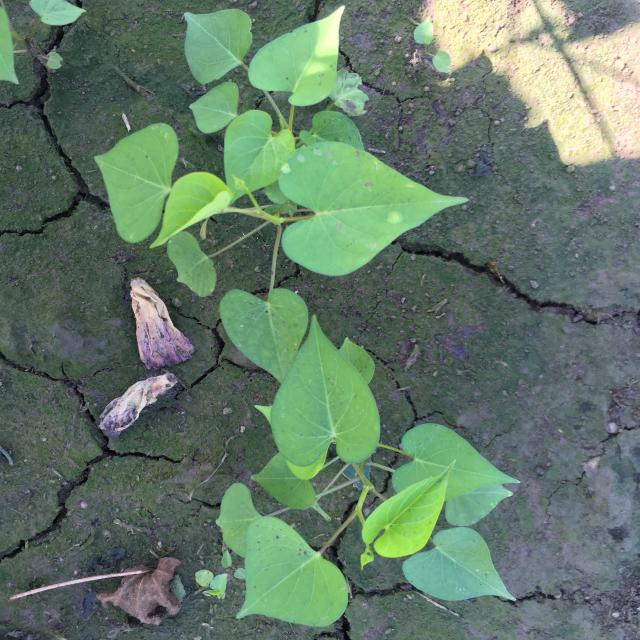MorningGlory: (94, 6, 468, 384), (215, 314, 521, 628), (0, 0, 86, 84), (414, 15, 451, 72), (195, 569, 227, 599)
